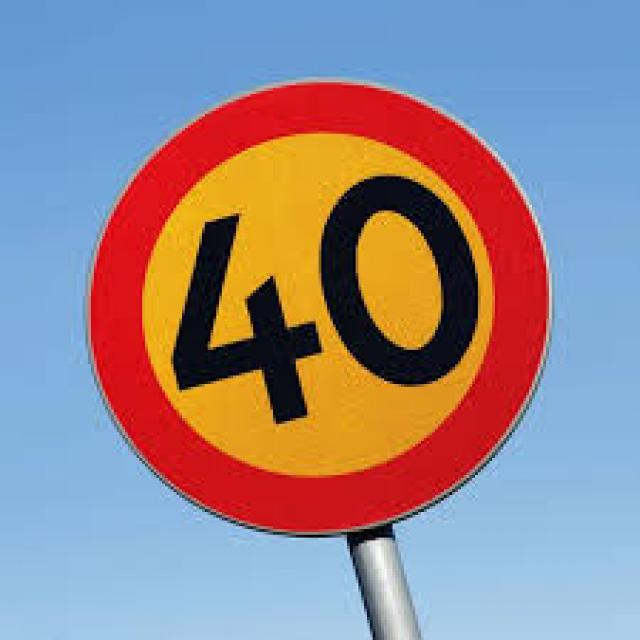speed limit 40: (84, 76, 554, 542)
